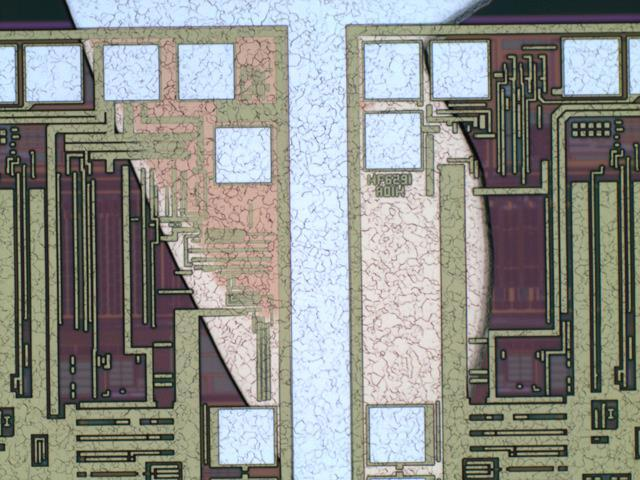BLOCK ETCH: (63, 2, 497, 480)
